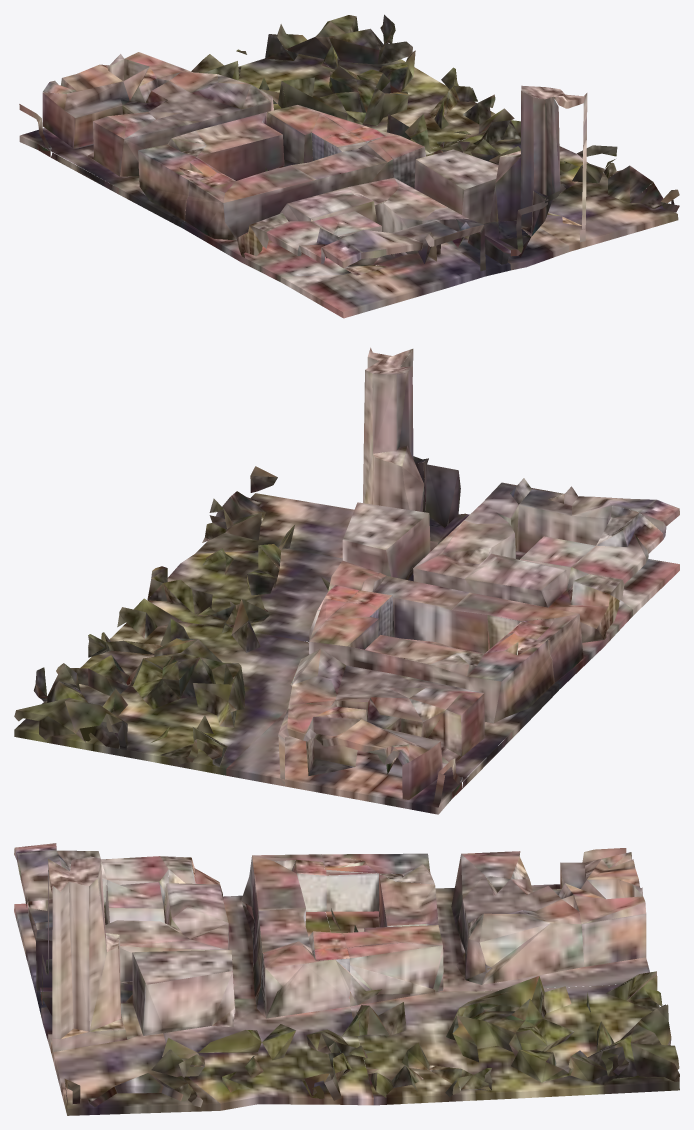
The picture shows the model from 3 angles, top to bottom: view 1: azimuth 30°, elevation 25°; view 2: azimuth 150°, elevation 25°; view 3: azimuth 270°, elevation 25°; orthographic projection. The views are drawn at different scales.
Parts seen in each view (by area): view 1: Mesh_0; view 2: Mesh_0; view 3: Mesh_0.
Part boxes in pixels (x1,y1,x2,y2): Mesh_0: (19, 14, 679, 318); Mesh_0: (14, 347, 679, 814); Mesh_0: (14, 843, 679, 1115).
Bounding box in the file's own units: 271 × 103 × 330.
2 materials, 2 textured.
